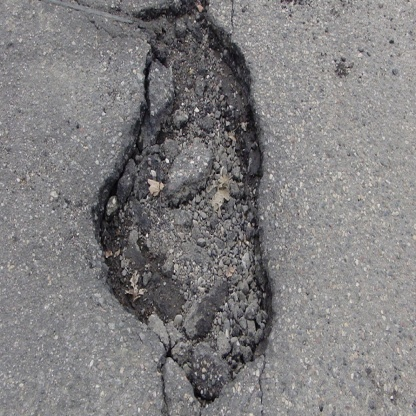pothole: (90, 1, 284, 408)
